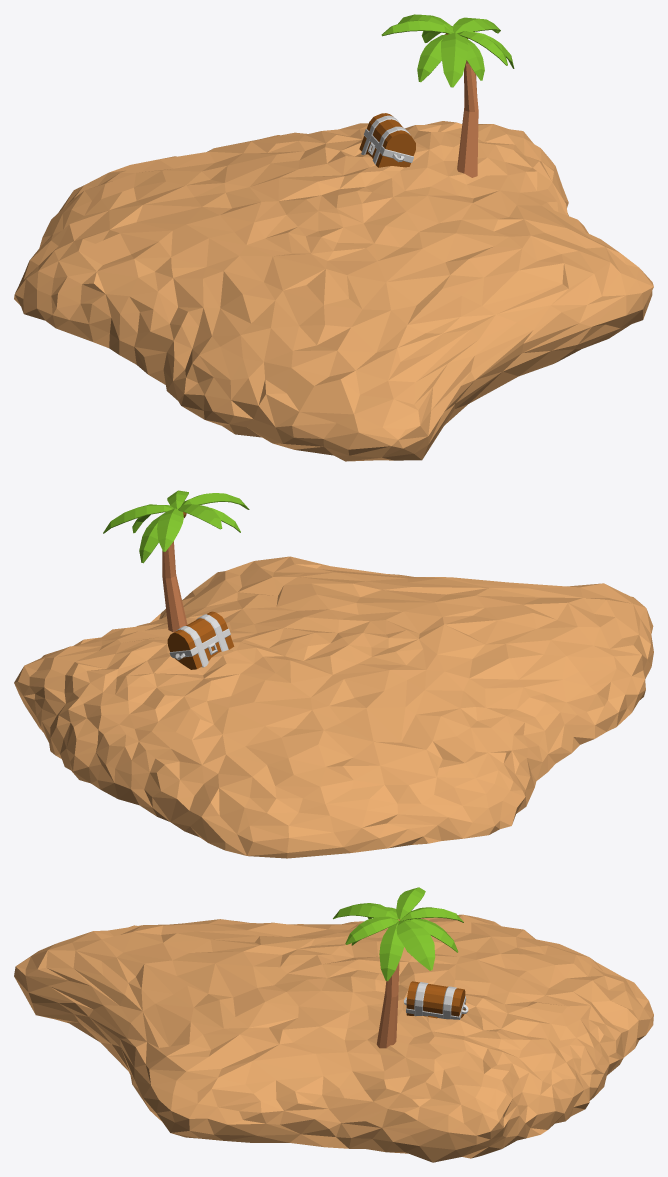
Rendered from island.glb.
3 renders of one model, top to bottom at view 1: azimuth 30°, elevation 25°; view 2: azimuth 150°, elevation 25°; view 3: azimuth 270°, elevation 25°, orthographic. The views are drawn at different scales.
Parts seen in each view (by area): view 1: Island, Chest, Circle, Plane.001, Plane.009, Plane.007; view 2: Island, Chest, Circle, Plane.002, Plane.006, Plane.004, Plane.007; view 3: Island, Chest, Plane.006, Circle, Plane.005, Plane.003, Plane.001, Plane.007, Plane.002, Plane.004.
Part boxes in pixels (x1,y1,x2,y2): Island: (14,121,653,461); Chest: (359,113,415,167); Circle: (457,60,478,177); Plane.001: (441,33,468,87); Plane.009: (417,34,446,82); Plane.007: (381,20,452,36); Island: (14,556,653,858); Chest: (167,611,234,669); Circle: (162,541,187,632); Plane.002: (157,508,183,551); Plane.006: (103,504,173,533); Plane.004: (139,513,164,563); Plane.007: (178,504,222,529); Island: (14,914,653,1162); Chest: (404,981,468,1019); Plane.006: (396,920,435,970); Circle: (376,919,400,1048); Plane.005: (379,921,404,981); Plane.003: (345,916,398,944); Plane.001: (333,903,398,919); Plane.007: (396,887,425,919); Plane.002: (400,907,463,922); Plane.004: (404,918,458,952).
Size of the model in its own units: 4.75 by 2.07 by 5.66.
